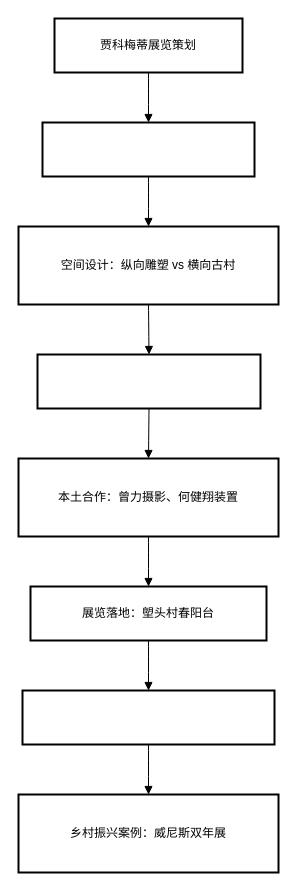
Image size: 296x890. Some labels were removed from this diagram. The shapes that lost their labels are listed below. From the top down, each one's centre as x and y in pixels, then its label:
At point (148, 149): "主题确定：1的纪念性".
At point (148, 381): "技术融合：AR虚拟场景".
At point (148, 717): "国际影响：法国基金会认可".
